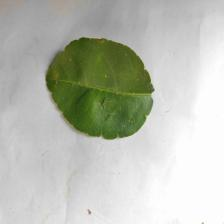greening: (58, 61, 155, 122)
